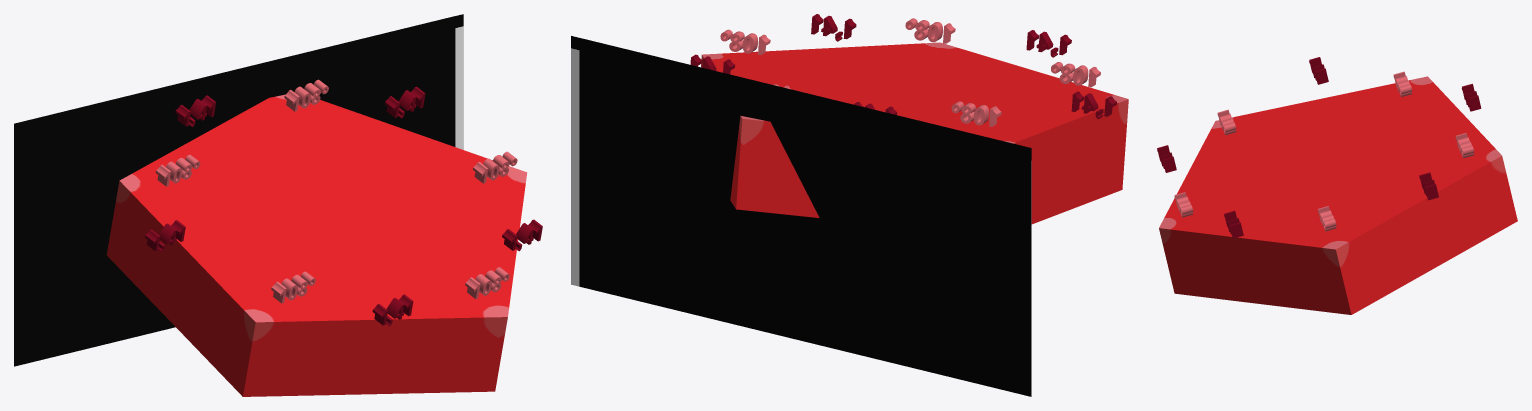
File: pergunta25Obj.fbx
3 views of the same model, side by side, from view 1: azimuth 30°, elevation 25°; view 2: azimuth 150°, elevation 25°; view 3: azimuth 270°, elevation 25° (orthographic). The views are drawn at different scales.
Parts seen in each view (by area): view 1: root (×2), node_id51, node_id57, node_id53, node_id40, node_id55, node_id76, node_id62, node_id72, node_id78, node_id74; view 2: root (×2), node_id40, node_id57, node_id55, node_id53, node_id74, node_id76, node_id78; view 3: root, node_id76, node_id62, node_id72, node_id74, node_id78, node_id40, node_id51, node_id57, node_id55, node_id53.
Boxes of the visible parts, x1=… form: root (×2): x1=14, y1=14, x2=527, y2=396; node_id51: x1=284, y1=79, x2=328, y2=111; node_id57: x1=465, y1=267, x2=509, y2=298; node_id53: x1=271, y1=271, x2=315, y2=303; node_id40: x1=155, y1=154, x2=200, y2=186; node_id55: x1=473, y1=151, x2=517, y2=183; node_id76: x1=372, y1=294, x2=413, y2=326; node_id62: x1=175, y1=95, x2=215, y2=126; node_id72: x1=384, y1=86, x2=425, y2=118; node_id78: x1=502, y1=219, x2=542, y2=251; node_id74: x1=145, y1=220, x2=185, y2=251; root (×2): x1=571, y1=35, x2=1128, y2=396; node_id40: x1=951, y1=101, x2=1001, y2=126; node_id57: x1=905, y1=18, x2=955, y2=43; node_id55: x1=720, y1=29, x2=770, y2=54; node_id53: x1=1051, y1=62, x2=1100, y2=87; node_id74: x1=1071, y1=91, x2=1116, y2=119; node_id76: x1=1026, y1=30, x2=1071, y2=57; node_id78: x1=811, y1=14, x2=856, y2=41; root: x1=1159, y1=76, x2=1517, y2=314; node_id76: x1=1157, y1=145, x2=1176, y2=172; node_id62: x1=1461, y1=83, x2=1481, y2=111; node_id72: x1=1419, y1=172, x2=1438, y2=200; node_id74: x1=1309, y1=57, x2=1328, y2=84; node_id78: x1=1224, y1=210, x2=1243, y2=238; node_id40: x1=1393, y1=71, x2=1412, y2=96; node_id51: x1=1455, y1=133, x2=1474, y2=158; node_id57: x1=1174, y1=192, x2=1193, y2=217; node_id55: x1=1317, y1=206, x2=1336, y2=231; node_id53: x1=1217, y1=109, x2=1236, y2=135.
Bounding box in the file's own units: 0.569 × 0.294 × 0.4776.
8 materials, 7 textured.
